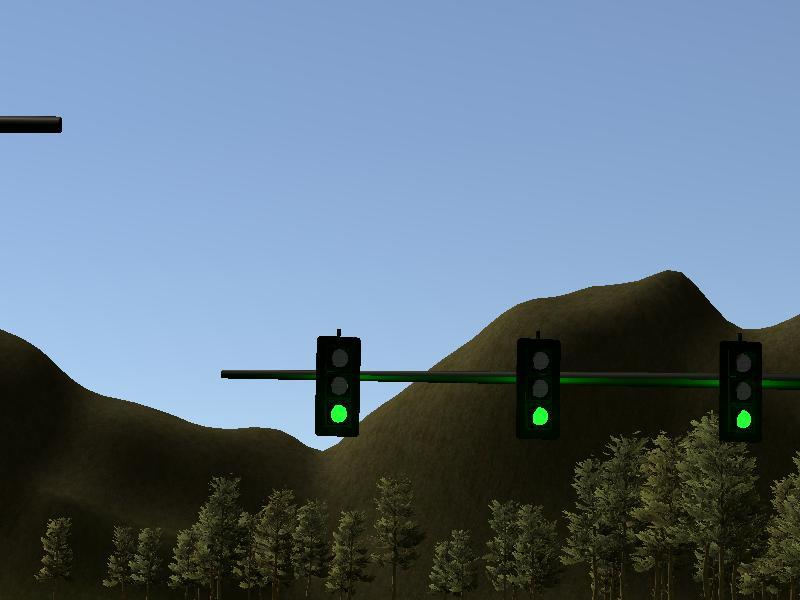Green: (516, 339, 558, 440), (720, 342, 761, 442), (316, 337, 357, 434)
